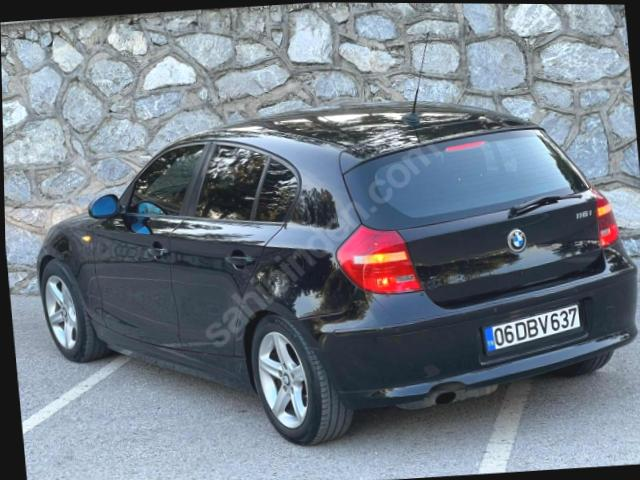plaka: (483, 304, 580, 351)
